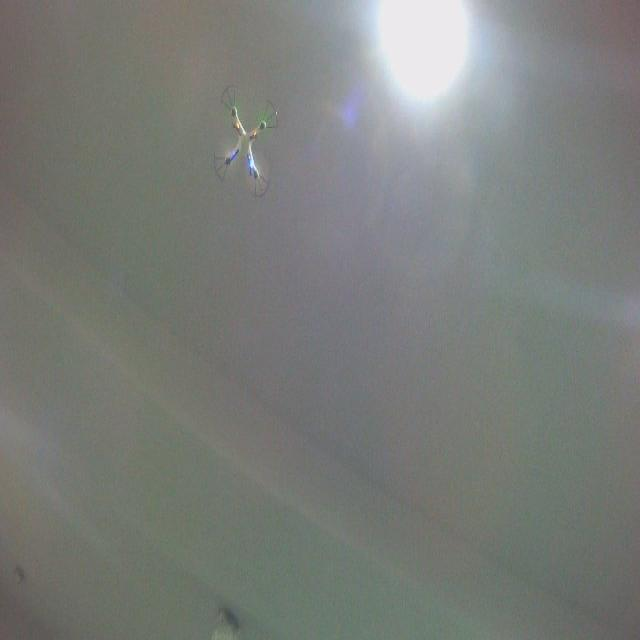drone: (211, 82, 281, 201)
